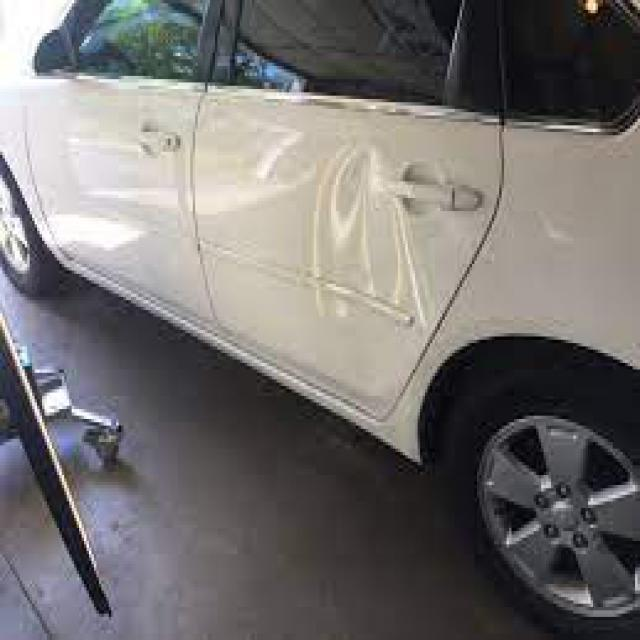doorouter-dent: (304, 119, 422, 353)
